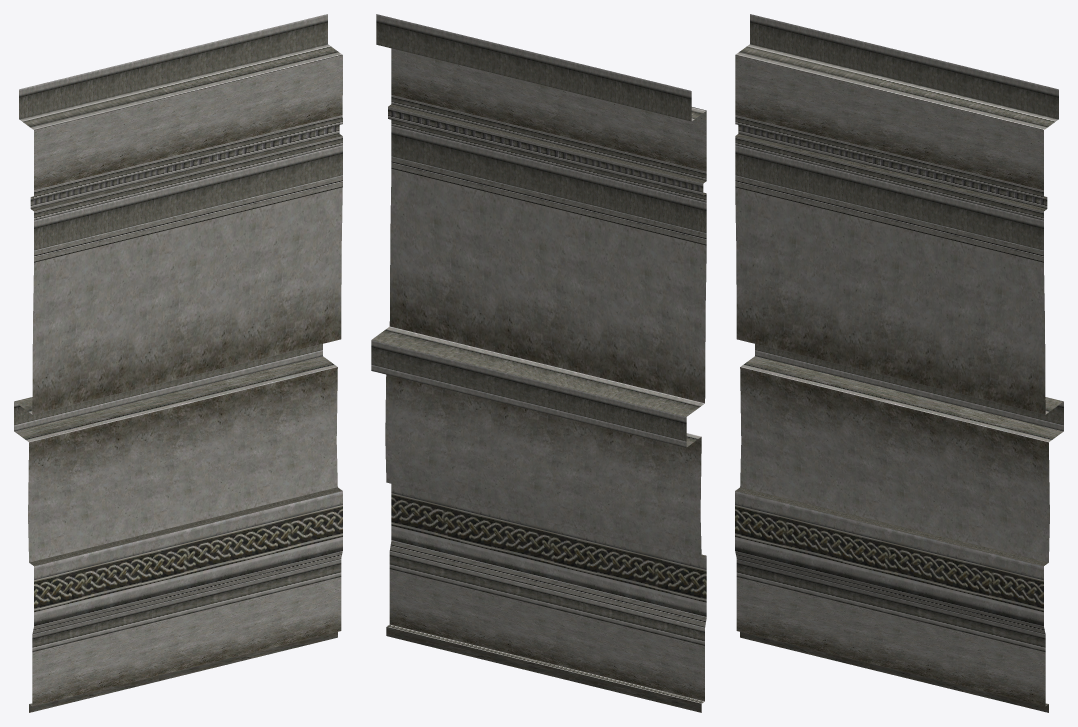
File: DWARF_PALACE_WATER_ROOM_WALL01C02.fbx
The picture shows the model from 3 angles, left to right: view 1: azimuth 30°, elevation 25°; view 2: azimuth 150°, elevation 25°; view 3: azimuth 330°, elevation 25°; orthographic projection. The views are drawn at different scales.
Parts seen in each view (by area): view 1: DWARF_PALACE_WATER_ROOM_WALL01C02; view 2: DWARF_PALACE_WATER_ROOM_WALL01C02; view 3: DWARF_PALACE_WATER_ROOM_WALL01C02.
Part boxes in pixels (x1,y1,x2,y2): DWARF_PALACE_WATER_ROOM_WALL01C02: [14, 14, 342, 712]; DWARF_PALACE_WATER_ROOM_WALL01C02: [371, 14, 706, 712]; DWARF_PALACE_WATER_ROOM_WALL01C02: [735, 14, 1063, 712].
Size of the model in its own units: 107467 by 205000 by 12001.
7 materials, 7 textured.
